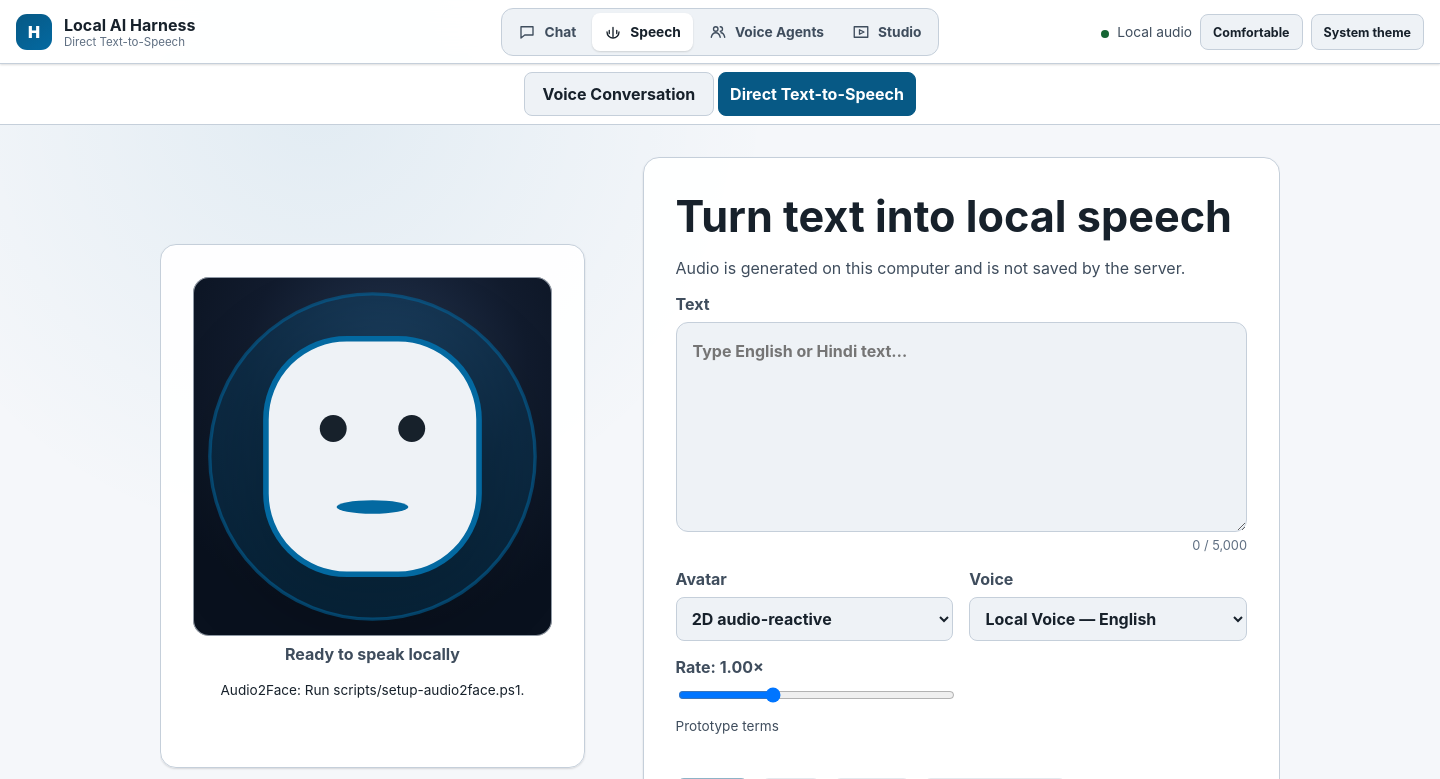
Test case: independent speech page › stops a live request and suppresses motion when reduced motion is preferred
Expected: the text "Ready to speak locally" is shown, left=285, top=644, right=460, bottom=664
Type "hello" into the text box named "Speech text".
click(961, 427); type("hello")  # box left=676, top=322, right=1247, bottom=532
(page scrolled)
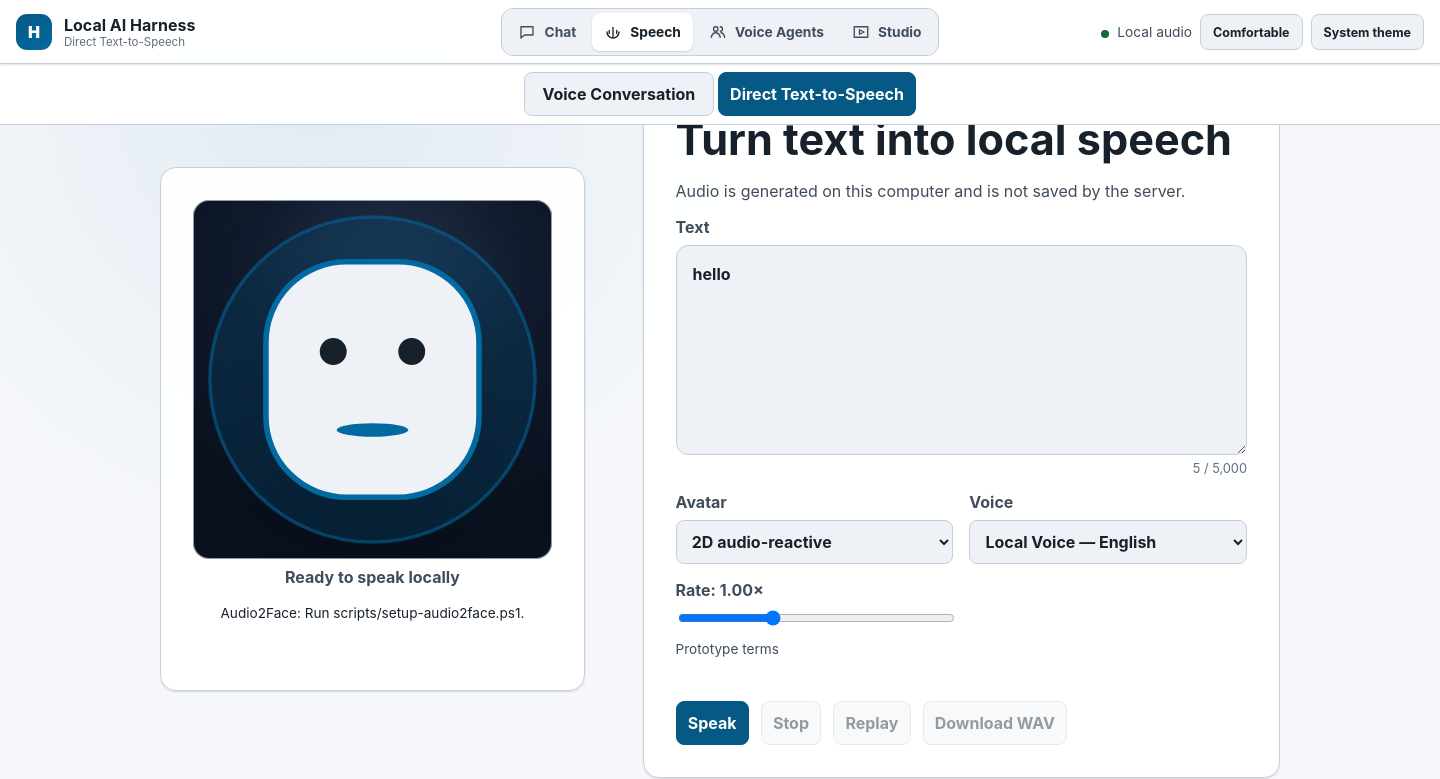
Click the button "Speak".
click(712, 723)  # box left=676, top=701, right=749, bottom=745
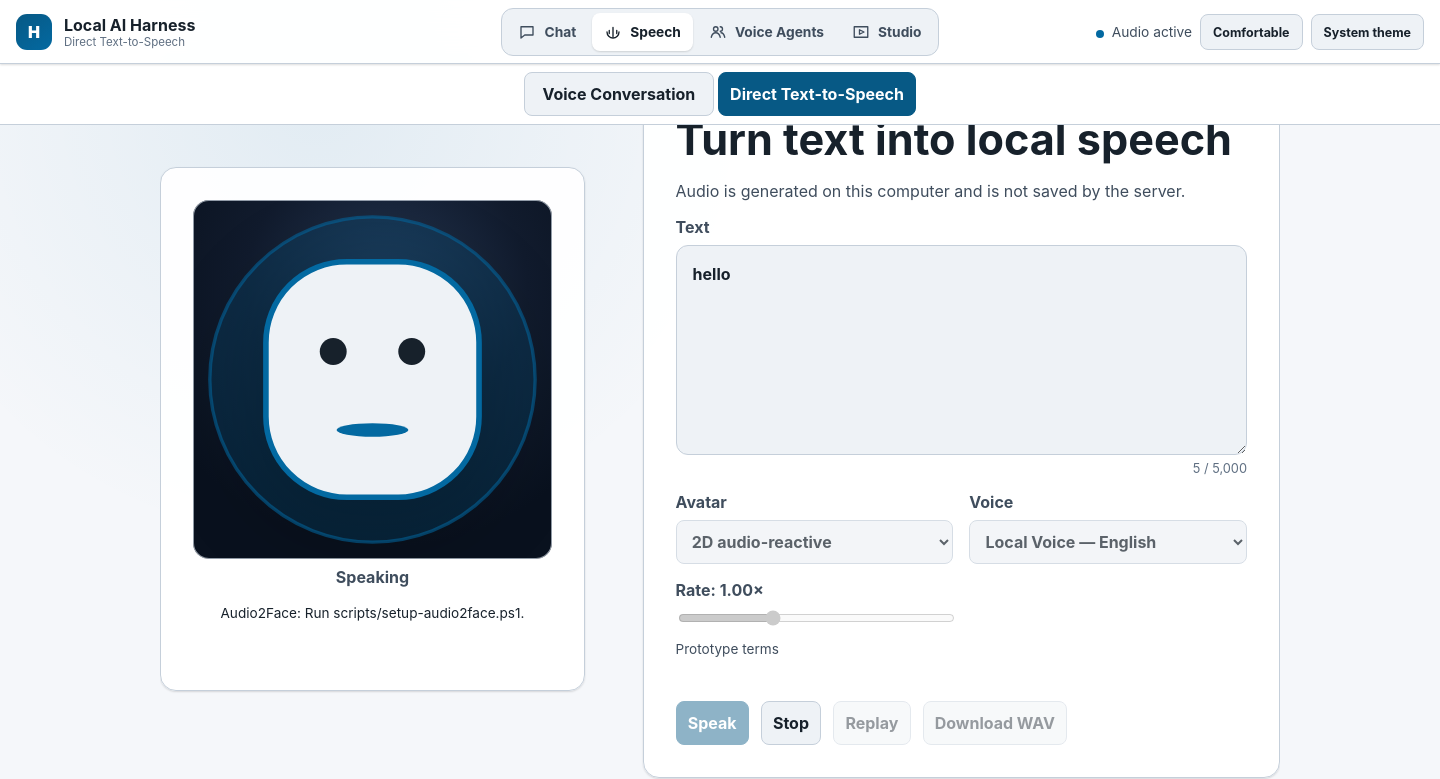
Expected: the text "Speaking" is shown, left=336, top=567, right=409, bottom=587
Click the button "Stop".
click(791, 723)  # box left=761, top=701, right=821, bottom=745
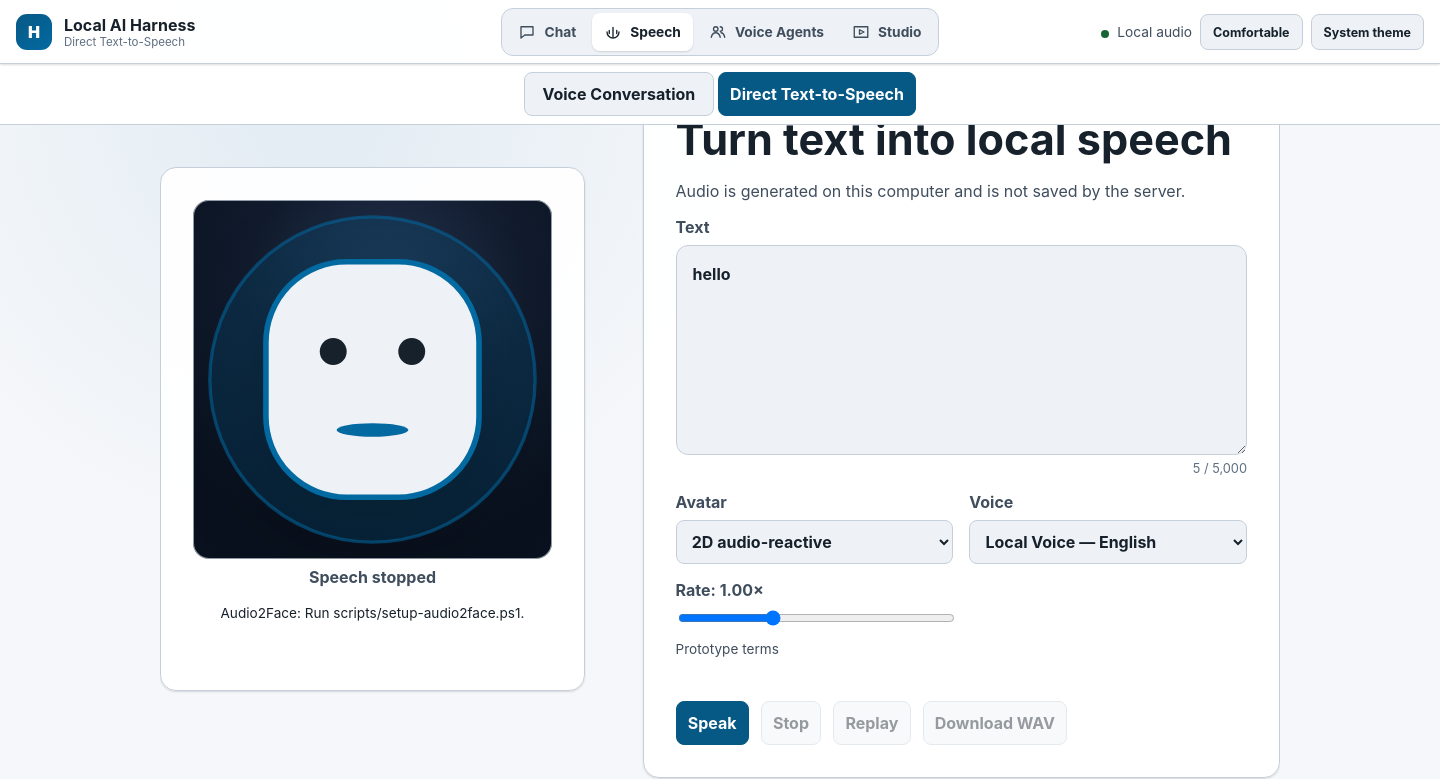
Expected: the text "Speech stopped" is shown, left=309, top=567, right=436, bottom=587
